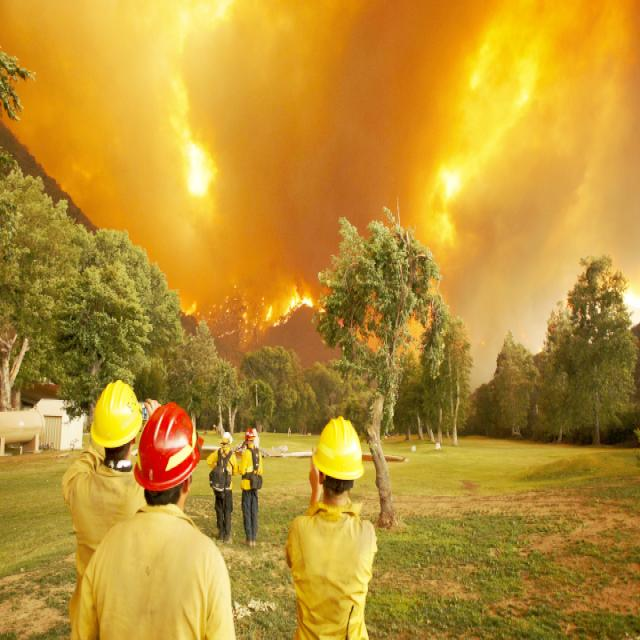api: (266, 286, 319, 335)
asap: (1, 1, 640, 386)
